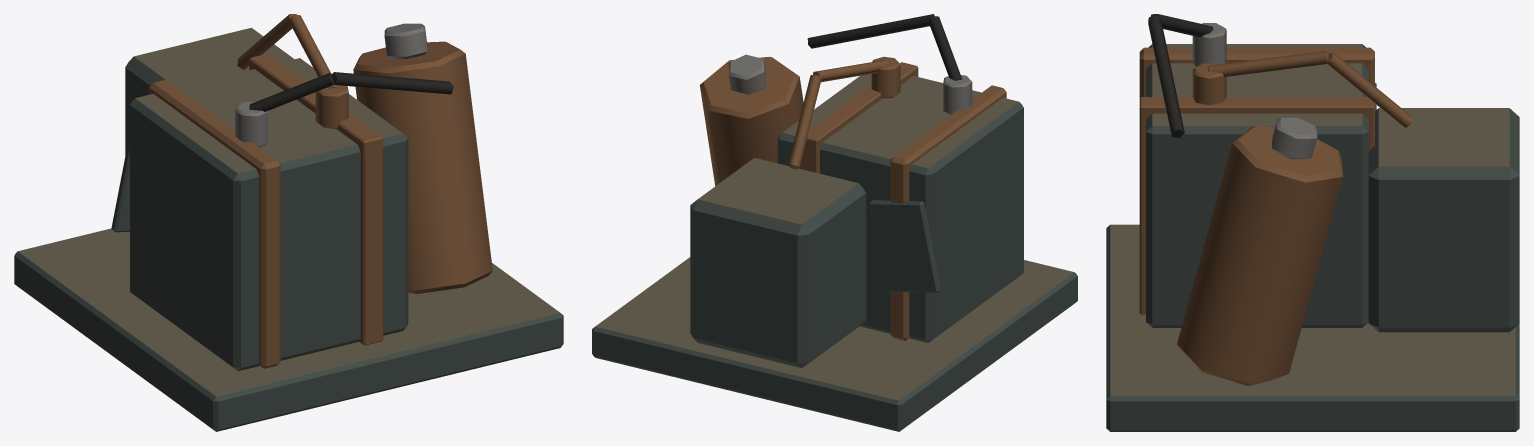
The model's file is R4X_Battery_LOD1.fbx.
3 views of the same model, side by side, from view 1: azimuth 30°, elevation 25°; view 2: azimuth 150°, elevation 25°; view 3: azimuth 270°, elevation 25° (orthographic). The views are drawn at different scales.
Visible parts, largest first — view 1: R4X_Battery_LOD1; view 2: R4X_Battery_LOD1; view 3: R4X_Battery_LOD1.
Boxes of the visible parts, box(x1,y1,x2,y2) form: R4X_Battery_LOD1: box(14, 14, 563, 431); R4X_Battery_LOD1: box(592, 14, 1077, 431); R4X_Battery_LOD1: box(1106, 14, 1519, 431).
Bounding box in the file's own units: 0.52 × 0.4377 × 0.52.
